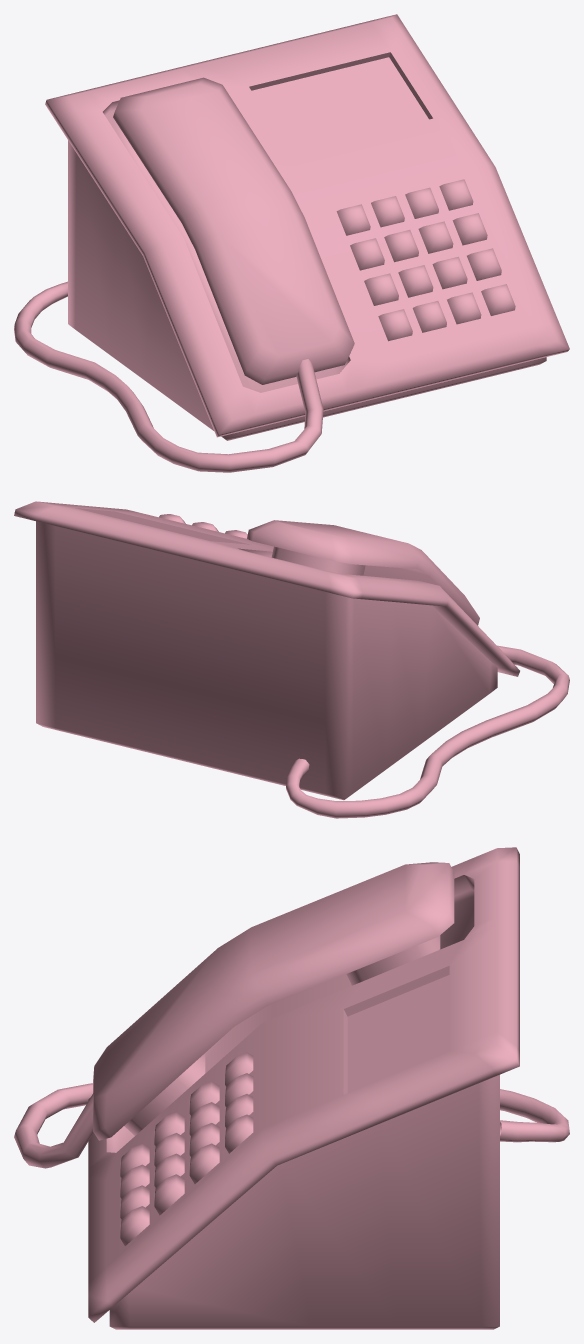
File: Phone.fbx
3 views of the same model, one above another, from view 1: azimuth 30°, elevation 25°; view 2: azimuth 150°, elevation 25°; view 3: azimuth 270°, elevation 25° (orthographic). The views are drawn at different scales.
Parts seen in each view (by area): view 1: Phone; view 2: Phone; view 3: Phone.
Part boxes in pixels (x1,y1,x2,y2): Phone: (14,14,569,472); Phone: (14,501,569,818); Phone: (14,847,569,1329).
Bounding box in the file's own units: 39.1 × 22.56 × 37.69.
